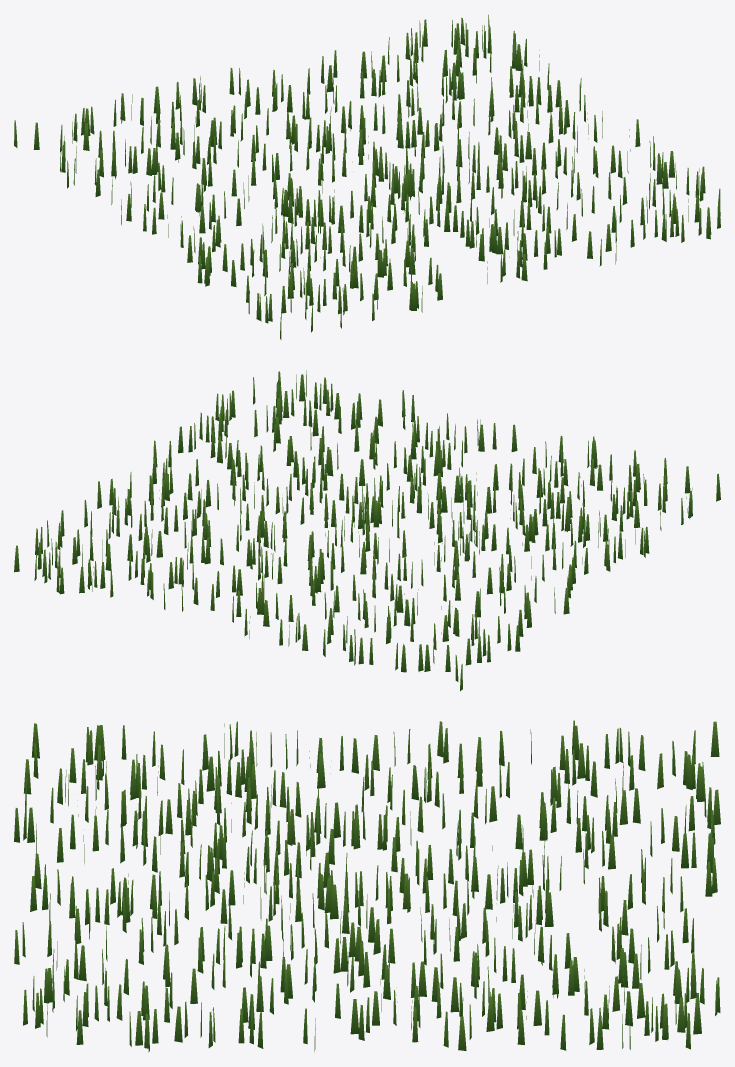
Rendered from Turf_Lawn_v0.glb.
3 renders of one model, top to bottom at view 1: azimuth 30°, elevation 25°; view 2: azimuth 150°, elevation 25°; view 3: azimuth 270°, elevation 25°, orthographic. The views are drawn at different scales.
Visible parts, largest first — view 1: Turf_Lawn_v0; view 2: Turf_Lawn_v0; view 3: Turf_Lawn_v0.
Boxes of the visible parts, left/top/right/bottom form: Turf_Lawn_v0: left=14, top=14, right=720, bottom=339; Turf_Lawn_v0: left=14, top=370, right=720, bottom=691; Turf_Lawn_v0: left=14, top=720, right=720, bottom=1052.
Size of the model in its own units: 1.23 by 0.0669 by 1.23.
